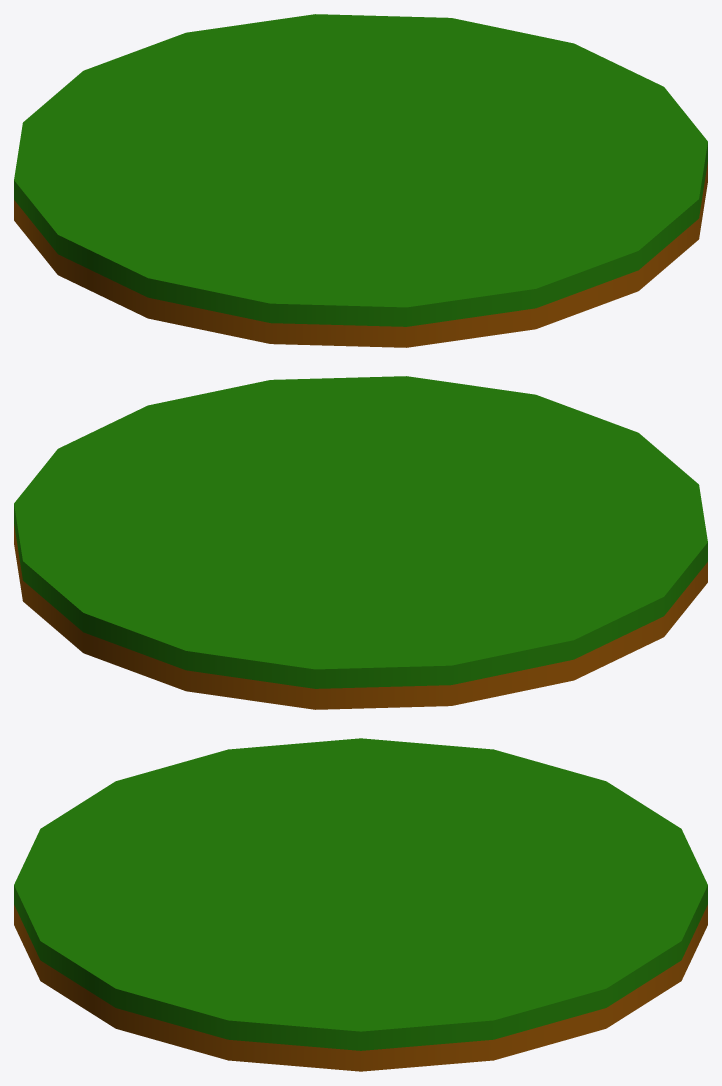
Rendered from map.glb.
3 renders of one model, top to bottom at view 1: azimuth 30°, elevation 25°; view 2: azimuth 150°, elevation 25°; view 3: azimuth 270°, elevation 25°, orthographic.
Parts seen in each view (by area): view 1: Plane; view 2: Plane; view 3: Plane.
Boxes of the visible parts, x1,y1,x2,y2 form: Plane: [14, 14, 707, 347]; Plane: [14, 376, 707, 709]; Plane: [14, 738, 707, 1071].
Bounding box in the file's own units: 375 × 23.89 × 375.
